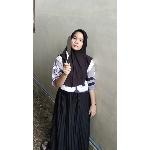Pisau: (65, 33, 74, 65)
